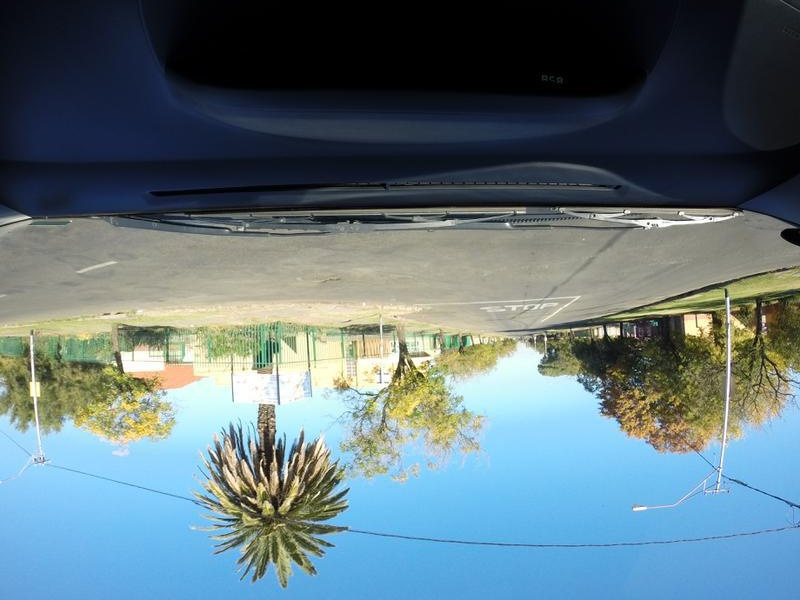pothole: (304, 269, 337, 289)
